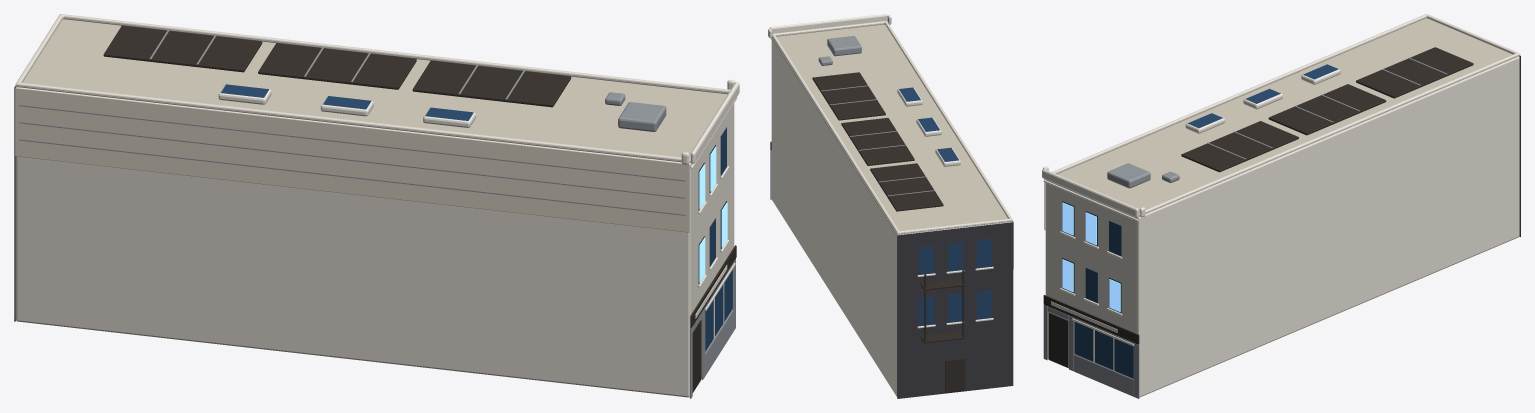
File: 106-south-park.glb
3 renders of one model, left to right at view 1: azimuth 30°, elevation 25°; view 2: azimuth 150°, elevation 25°; view 3: azimuth 270°, elevation 25°, orthographic. The views are drawn at different scales.
Parts seen in each view (by area): view 1: body, flank_boarding, parapet, pv_1, pv_2, pv_0, flank_groove_2, flank_groove_0, flank_groove_1, roof_mech, shopfront_glass, cornice (+4 smaller); view 2: body, rear_cladding, parapet, pv_0, pv_2, pv_1, cornice, rear_service_door, roof_mech, win_r2_2_fill, win_r3_1_fill, win_r3_2_fill (+8 smaller); view 3: body, parapet, pv_0, pv_1, pv_2, shopfront_glass, shop_bulkhead, cornice, vestibule_recess, sign_band, roof_mech, skylight_0 (+2 smaller).
Boxes of the visible parts, box(x1,y1,x2,y2) form: body: box(15, 19, 734, 397); flank_boarding: box(15, 87, 689, 232); parapet: box(15, 14, 730, 162); pv_1: box(258, 43, 416, 89); pv_2: box(103, 25, 262, 72); pv_0: box(412, 60, 571, 107); flank_groove_2: box(19, 105, 685, 181); flank_groove_0: box(19, 139, 685, 215); flank_groove_1: box(19, 122, 685, 198); roof_mech: box(618, 102, 666, 131); shopfront_glass: box(705, 270, 732, 351); cornice: box(690, 82, 739, 163); body: box(771, 24, 1011, 396); rear_cladding: box(897, 222, 1013, 398); parapet: box(772, 21, 1012, 234); pv_0: box(812, 72, 885, 120); pv_2: box(870, 163, 943, 211); pv_1: box(841, 118, 914, 165); cornice: box(770, 14, 887, 33); rear_service_door: box(945, 358, 965, 392); roof_mech: box(827, 36, 861, 56); win_r2_2_fill: box(977, 290, 991, 319); win_r3_1_fill: box(948, 242, 962, 271); win_r3_2_fill: box(977, 239, 991, 268); body: box(1045, 18, 1519, 397); parapet: box(1052, 14, 1520, 216); pv_0: box(1181, 121, 1298, 172); pv_1: box(1268, 84, 1386, 135); pv_2: box(1356, 47, 1473, 98); shopfront_glass: box(1074, 322, 1133, 378); shop_bulkhead: box(1074, 354, 1133, 396); cornice: box(1042, 169, 1138, 217); vestibule_recess: box(1049, 313, 1068, 368); sign_band: box(1043, 295, 1139, 344); roof_mech: box(1107, 163, 1150, 188); skylight_0: box(1185, 113, 1225, 133).
Bounding box in the file's own units: 26.37 × 11.58 × 26.37.
